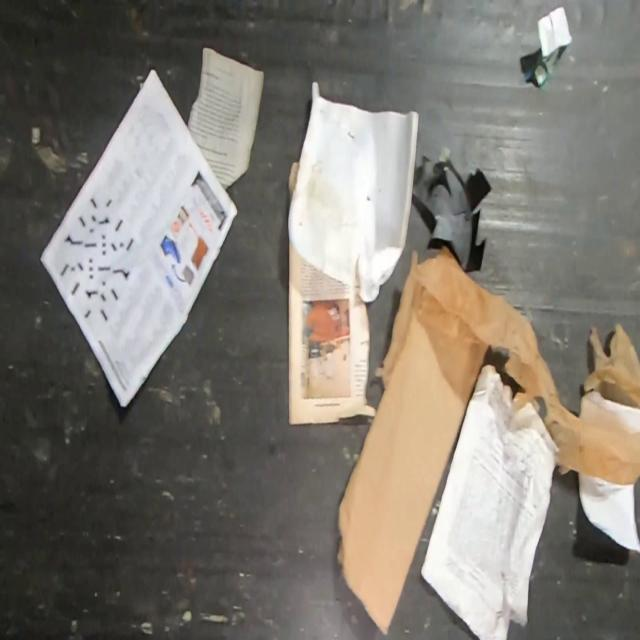cardboard: (336, 305, 489, 637)
rigid_plastic: (411, 151, 494, 274)
soft_plastic: (372, 243, 640, 485)
